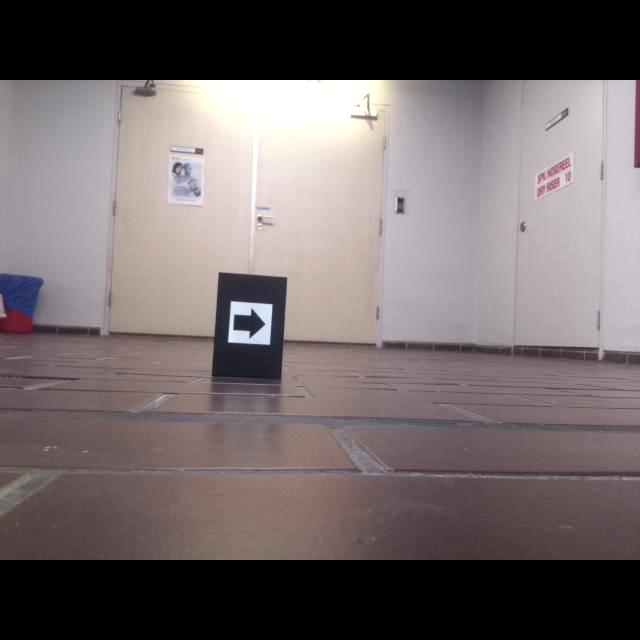RIGHT: (232, 307, 267, 340)
